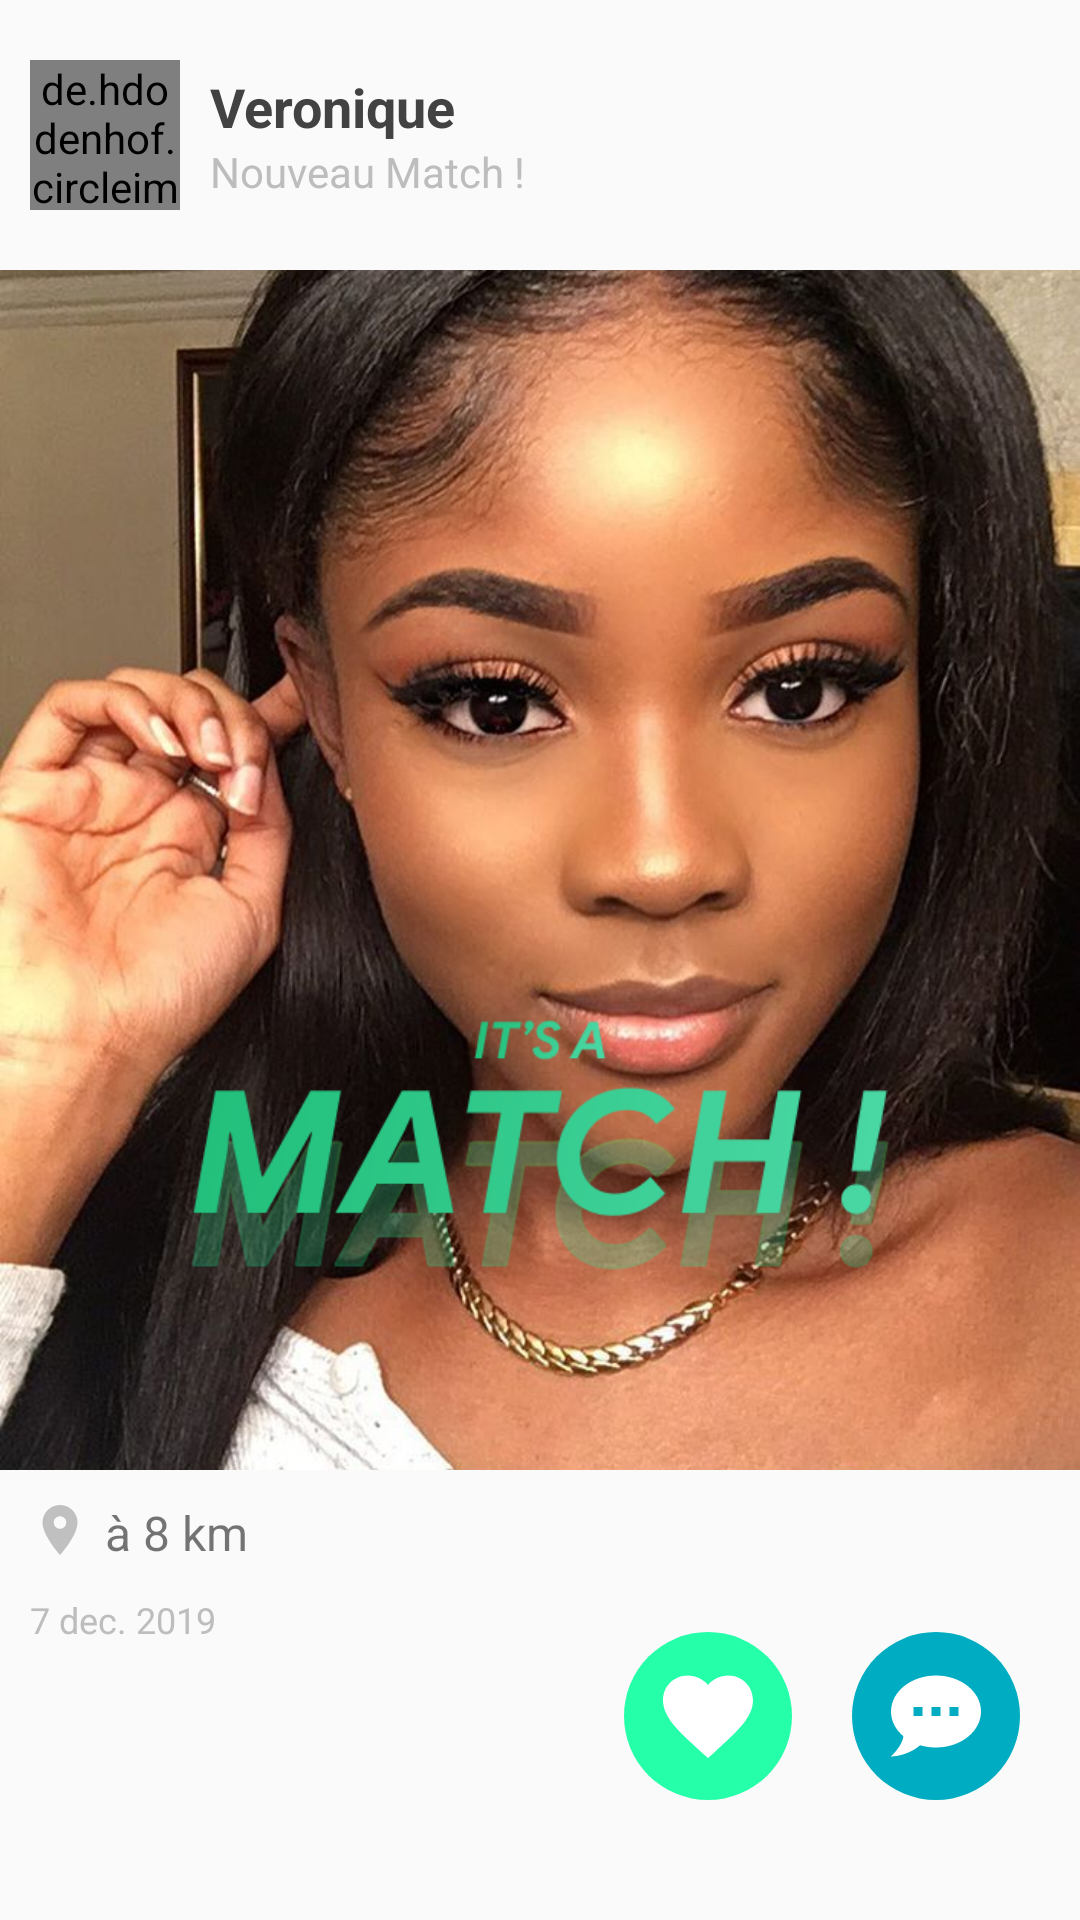

Point at icon controls on the screen. Image size 1080*1920, points as (x,y).
chat processing: (936,1716)
like: (708,1716)
location on: (60,1529)
